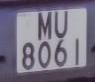0: (36, 39, 54, 72)
1: (71, 37, 84, 70)
6: (53, 38, 70, 70)
8: (19, 39, 37, 73)
M: (35, 9, 54, 43)
U: (52, 9, 71, 40)
